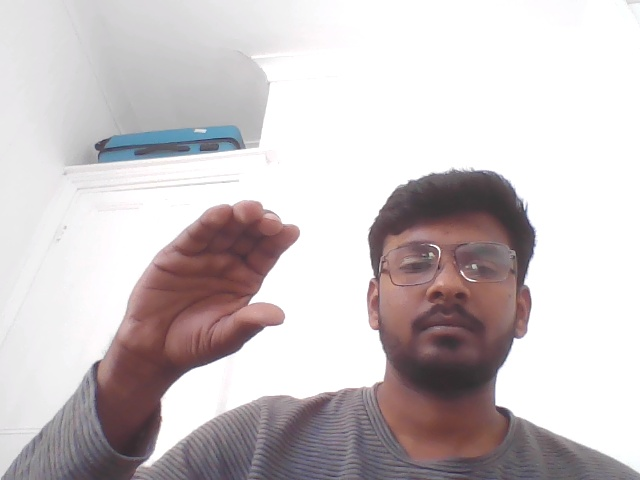No: (70, 171, 341, 455)
